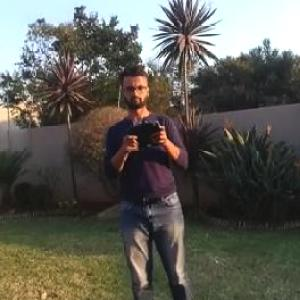follow: (97, 57, 200, 299)
